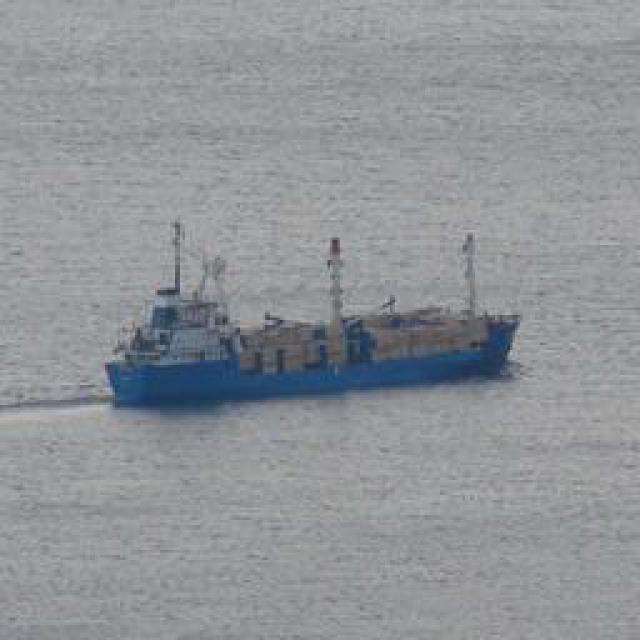Ship: (101, 220, 521, 410)
